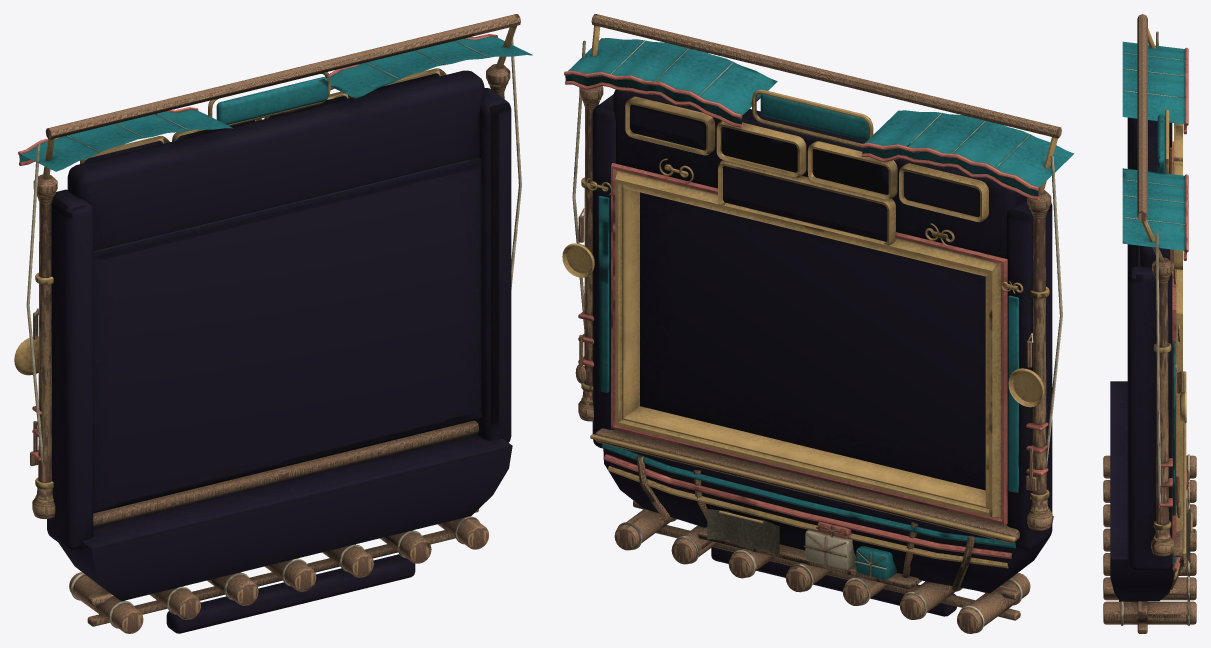
3 renders of one model, left to right at view 1: azimuth 30°, elevation 25°; view 2: azimuth 150°, elevation 25°; view 3: azimuth 270°, elevation 25°, orthographic. The views are drawn at different scales.
Visible parts, largest first — view 1: Deep_violet_enamel, Saltwashed_raft_timber, Woven_teal_canvas, Folded_parcel_paper, Coastal_brass; view 2: Deep_violet_enamel, Coastal_brass, Saltwashed_raft_timber, Woven_teal_canvas, Coral_canvas_binding, Folded_parcel_paper; view 3: Deep_violet_enamel, Saltwashed_raft_timber, Woven_teal_canvas, Coastal_brass, Coral_canvas_binding, Folded_parcel_paper.
Boxes of the visible parts, box(x1,y1,x2,y2) form: Deep_violet_enamel: box(47, 70, 512, 633); Saltwashed_raft_timber: box(30, 14, 520, 633); Woven_teal_canvas: box(19, 36, 532, 171); Folded_parcel_paper: box(26, 37, 521, 628); Coastal_brass: box(14, 25, 516, 502); Deep_violet_enamel: box(592, 90, 1053, 616); Coastal_brass: box(562, 25, 1057, 568); Saltwashed_raft_timber: box(575, 14, 1061, 633); Woven_teal_canvas: box(565, 38, 1073, 579); Coral_canvas_binding: box(564, 70, 1048, 558); Folded_parcel_paper: box(572, 40, 1062, 633); Deep_violet_enamel: box(1110, 117, 1174, 601); Saltwashed_raft_timber: box(1103, 14, 1196, 633); Woven_teal_canvas: box(1122, 41, 1187, 563); Coastal_brass: box(1141, 28, 1192, 579); Coral_canvas_binding: box(1159, 47, 1188, 572); Folded_parcel_paper: box(1121, 31, 1190, 625).
Size of the model in its own units: 9.45 by 9.6 by 1.78.
Materials: 6 (6 with a texture image).
